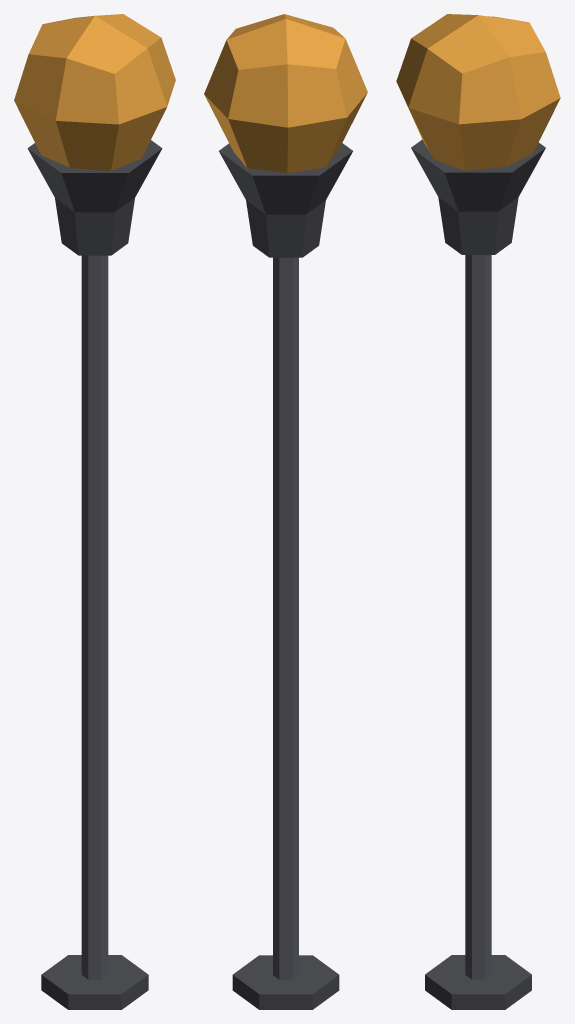
The model's file is StreetLamp.fbx.
3 renders of one model, left to right at view 1: azimuth 30°, elevation 25°; view 2: azimuth 150°, elevation 25°; view 3: azimuth 270°, elevation 25°, orthographic.
Visible parts, largest first — view 1: Cylinder.025; view 2: Cylinder.025; view 3: Cylinder.025.
Boxes of the visible parts, x1,y1,x2,y2 form: Cylinder.025: (14,14,175,1009); Cylinder.025: (204,14,367,1009); Cylinder.025: (396,14,560,1009).
Size of the model in its own units: 61.62 by 403 by 61.62.
